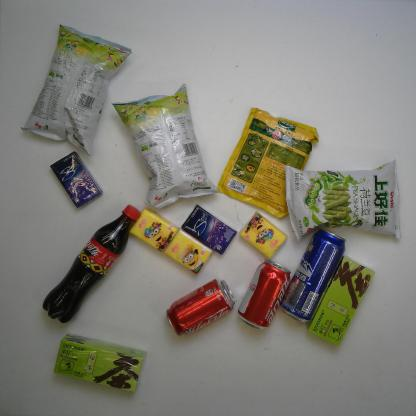Alcohol: (276, 227, 348, 323)
Drink: (38, 199, 143, 326), (233, 260, 294, 332), (165, 278, 236, 338)
Gum: (48, 150, 104, 210), (181, 203, 241, 255)
Instant Drink: (304, 251, 380, 347), (51, 334, 147, 396)
Puffed Food: (22, 24, 137, 158), (110, 83, 222, 215), (280, 156, 408, 246)
Seasoner: (214, 100, 323, 220)
Tissue: (163, 224, 215, 275), (236, 210, 290, 258), (126, 204, 180, 252)
